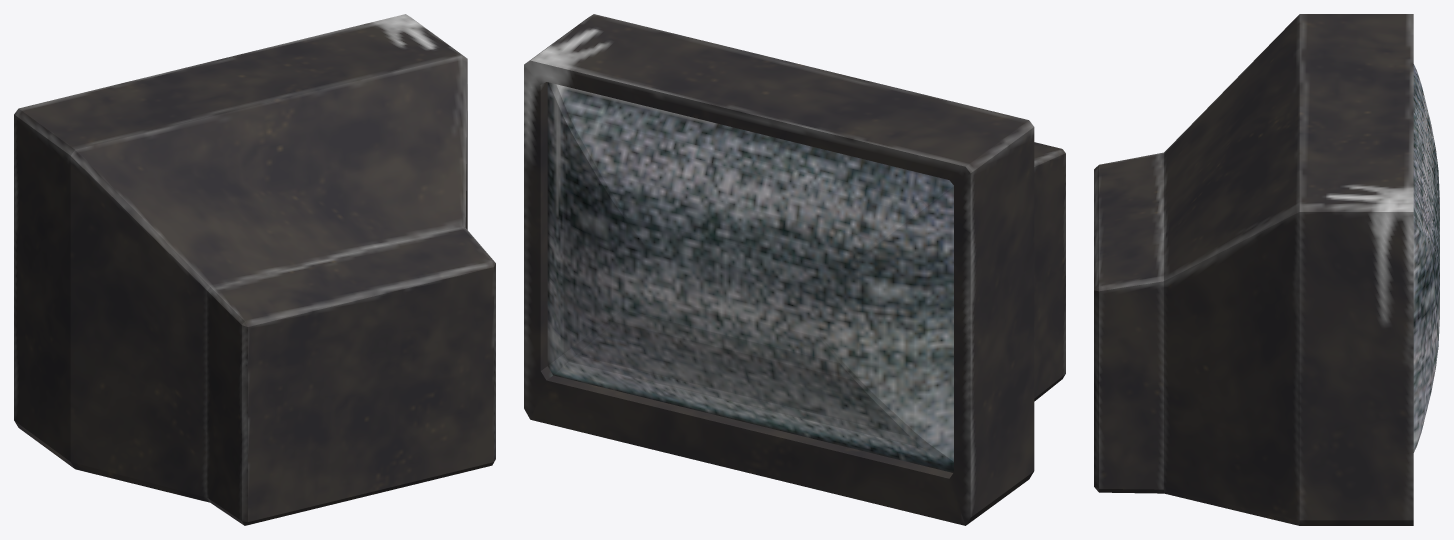
3 views of the same model, side by side, from view 1: azimuth 30°, elevation 25°; view 2: azimuth 150°, elevation 25°; view 3: azimuth 270°, elevation 25° (orthographic). The views are drawn at different scales.
Visible parts, largest first — view 1: TV; view 2: TV; view 3: TV.
Part boxes in pixels (box(x1,y1,x2,y2)): TV: box(14, 14, 495, 525); TV: box(524, 14, 1065, 525); TV: box(1094, 14, 1439, 525).
Bounding box in the file's own units: 0.5608 × 0.4322 × 0.4199.
Materials: 1 (1 with a texture image).
